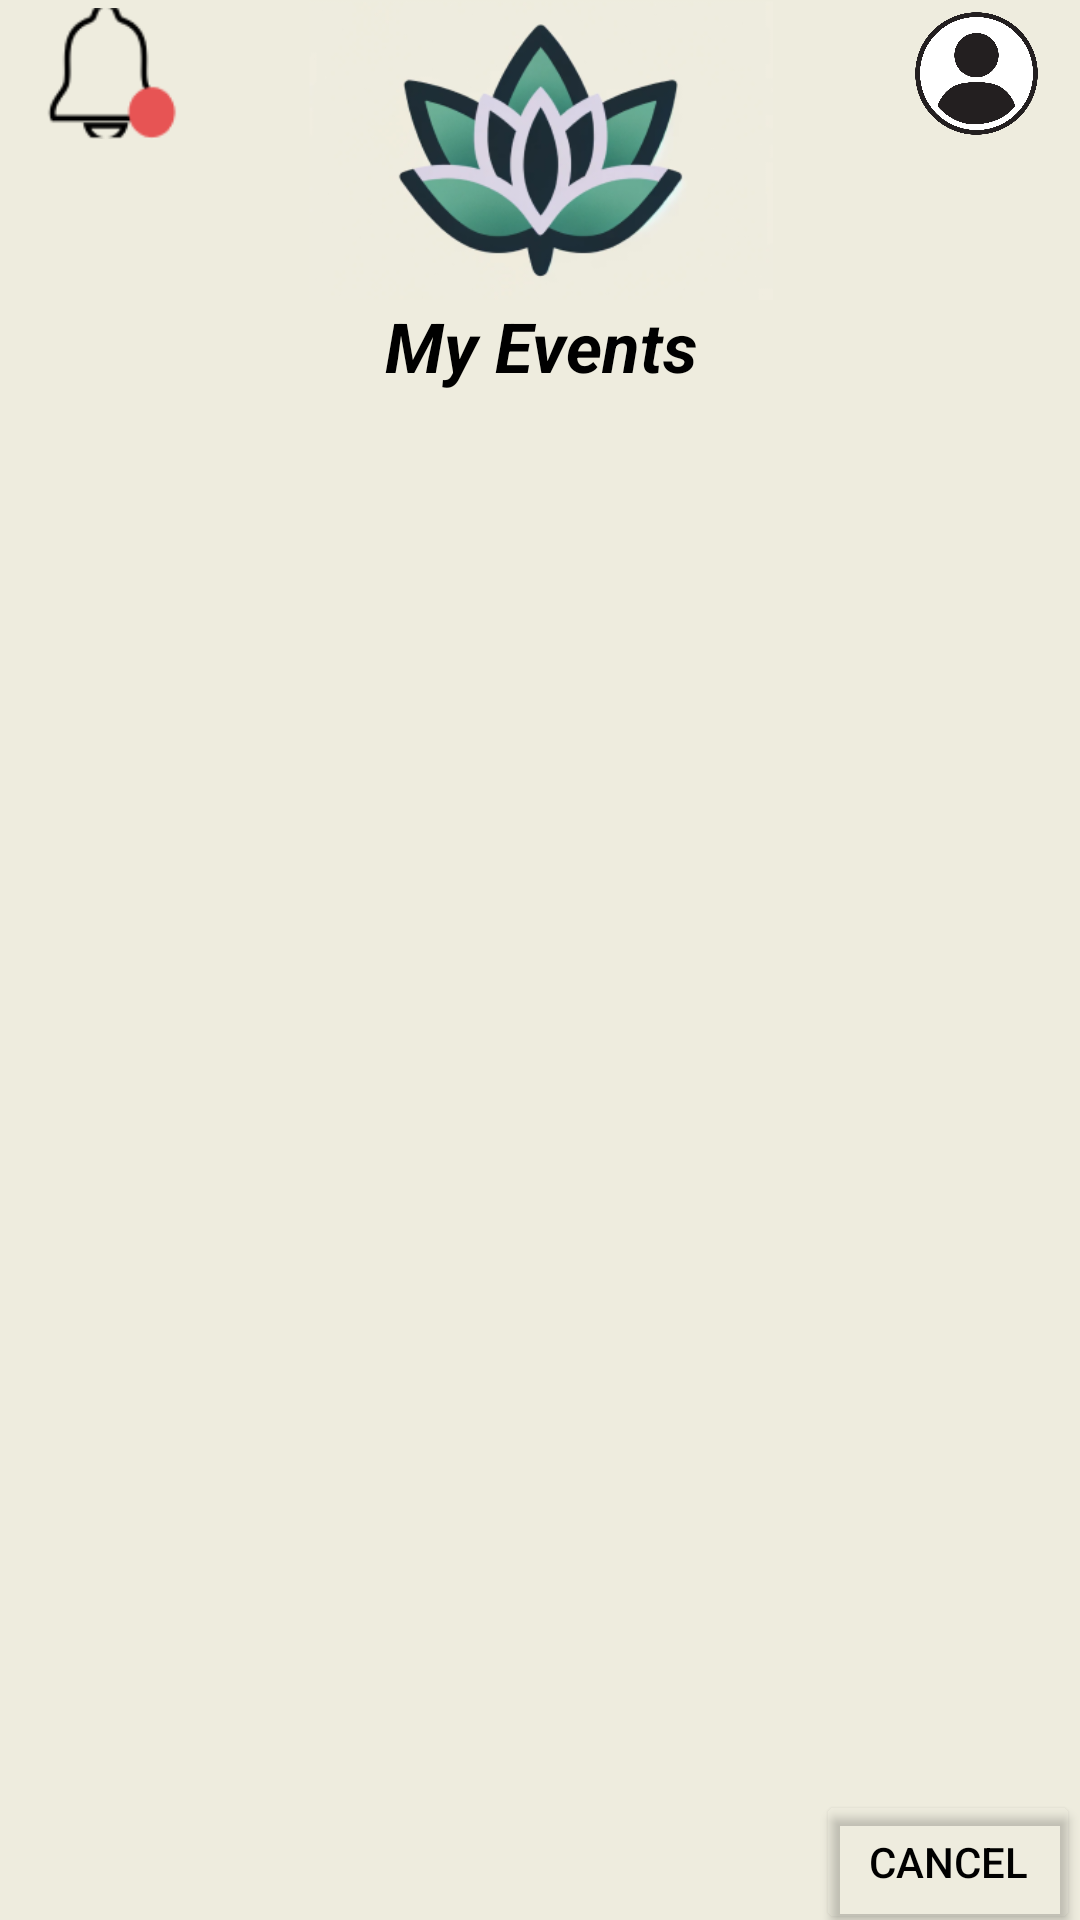

Screen size 1080×1920. Icon name, then its box in pixels as (x1, y1, x2, y2):
notifbell: (48, 8, 176, 139)
